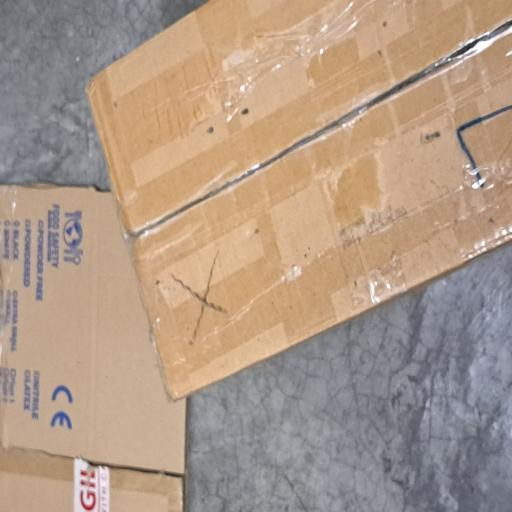cardboard: (83, 115, 383, 512), (0, 0, 244, 248)
